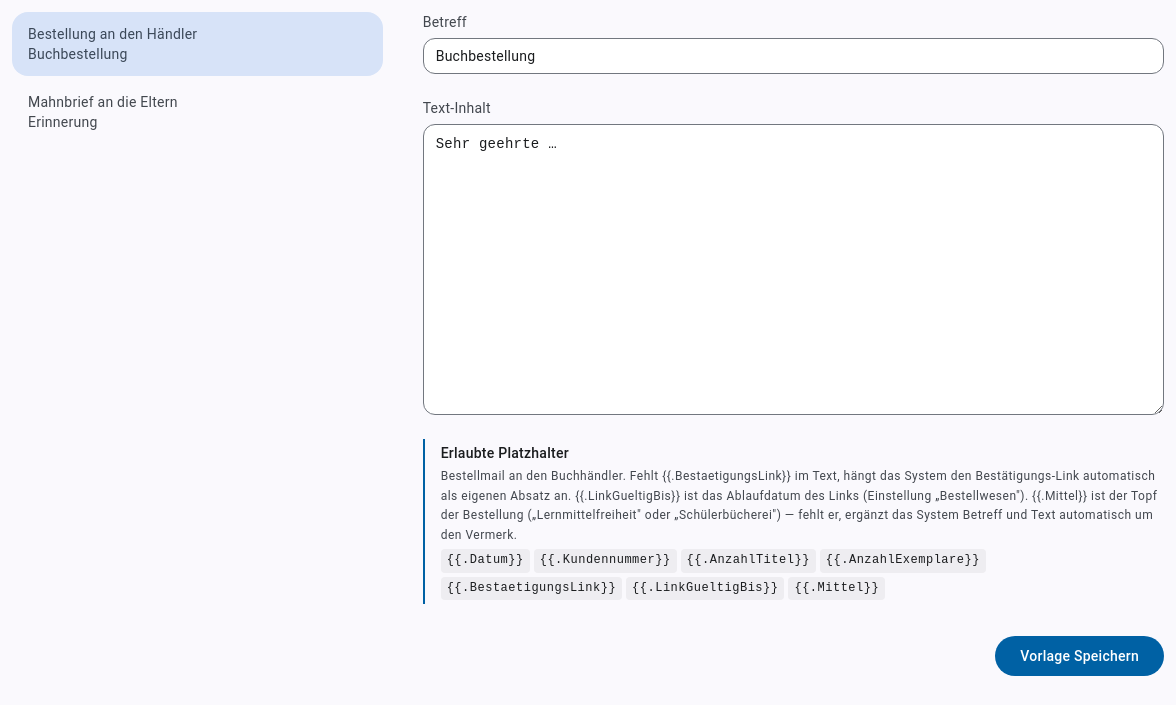
Scenario: Mail-Vorlagen › nennt beim Speichern den Grund, den der Server angibt
Expected: the text box labelled "Text-Inhalt" is shown, 423,124 -> 1164,415
Click the button "Vorlage Speichern" at {"x": 1080, "y": 656}, box 995,636 -> 1164,676
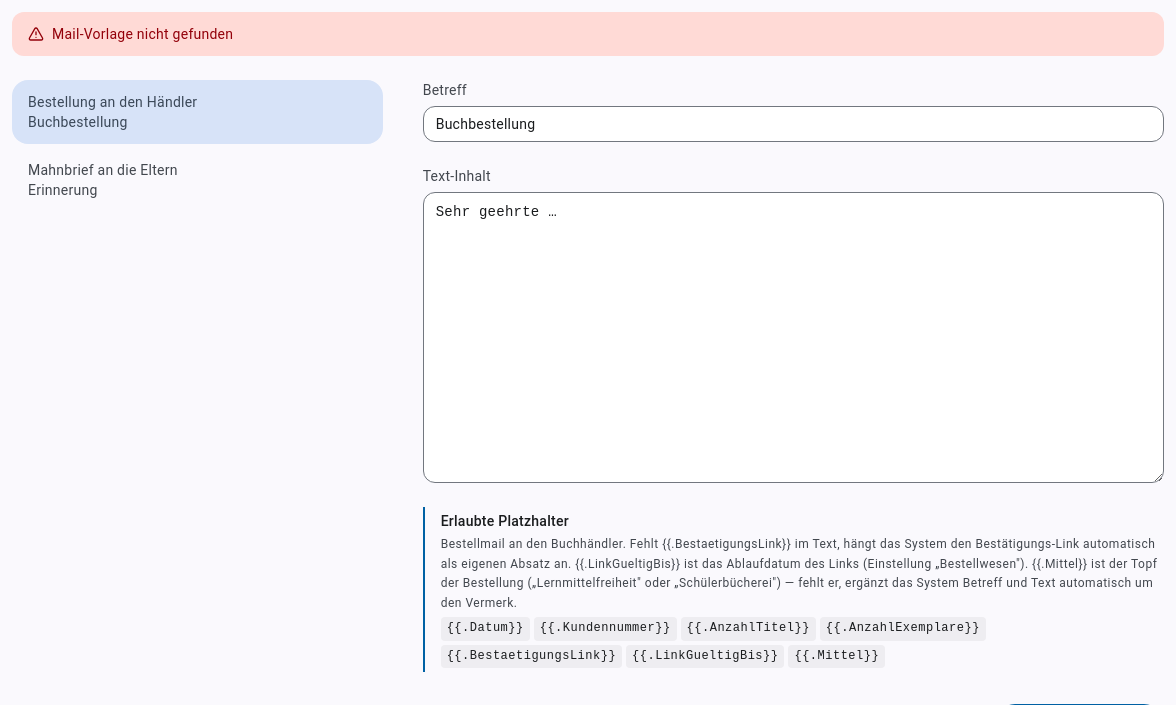
Expected: the message reads "Mail-Vorlage nicht gefunden", 52,26 -> 233,42
